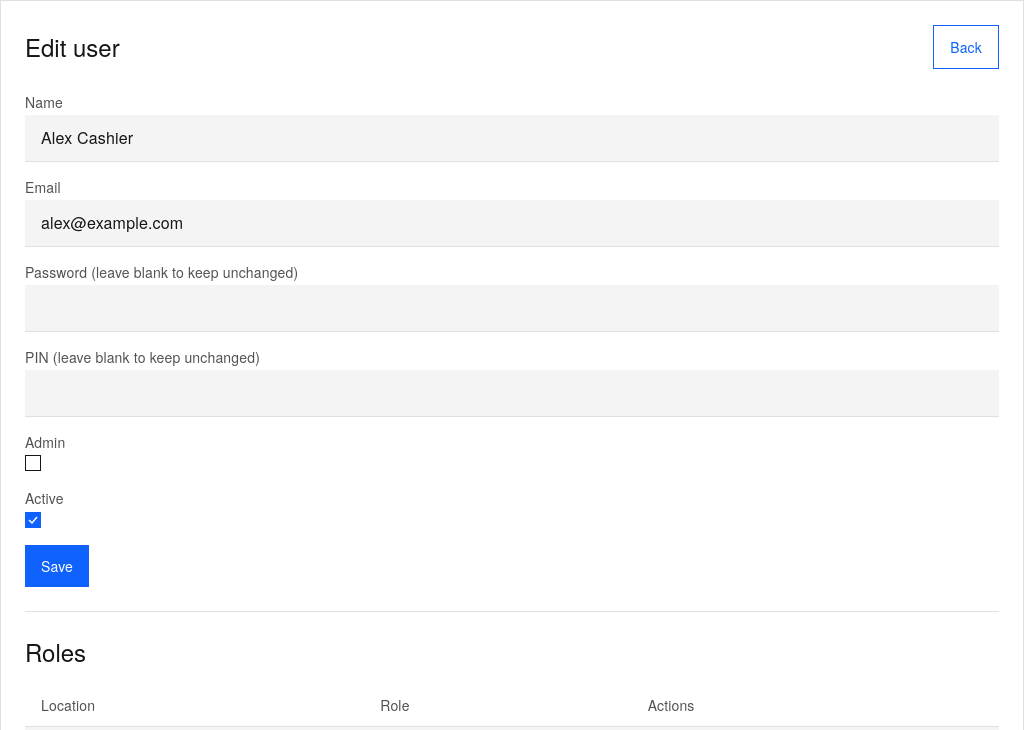
Test: UserEditor › renders the server message on a 422 self-lockout instead of a generic fallback
Click the checkbox named "admin" below "Admin": {"x": 33, "y": 463} [25, 455, 41, 471]
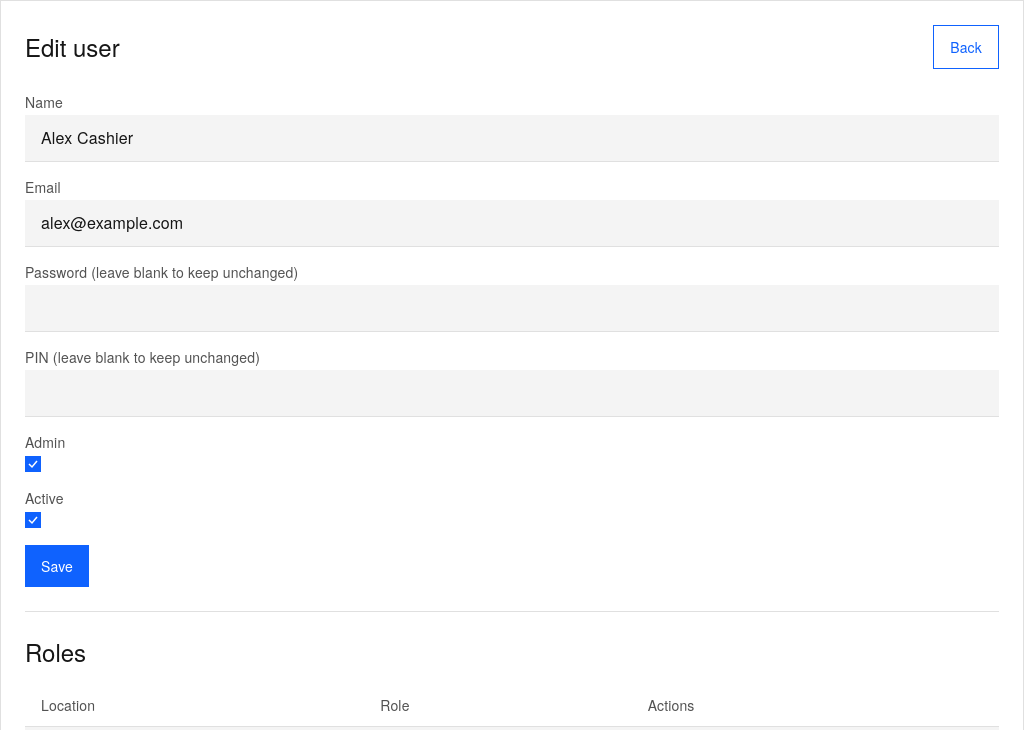
Click the button "Save": {"x": 57, "y": 566} [25, 545, 89, 587]
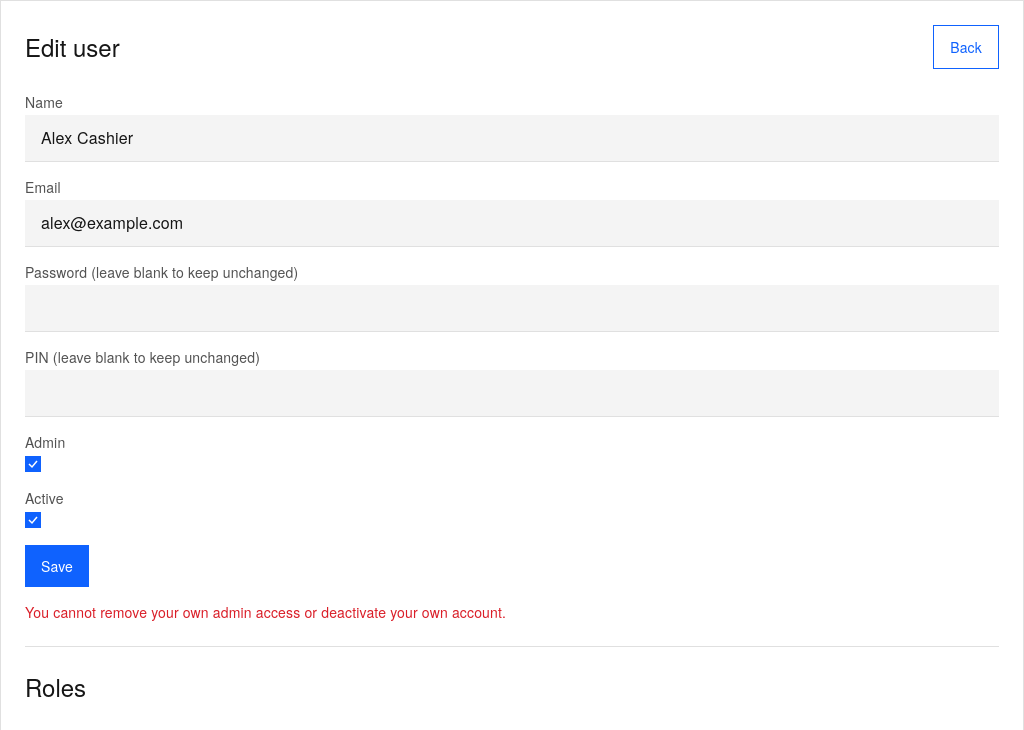
Result: the text "You cannot remove your own admin access or deactivate your own account." is shown at [25, 602, 506, 622]
